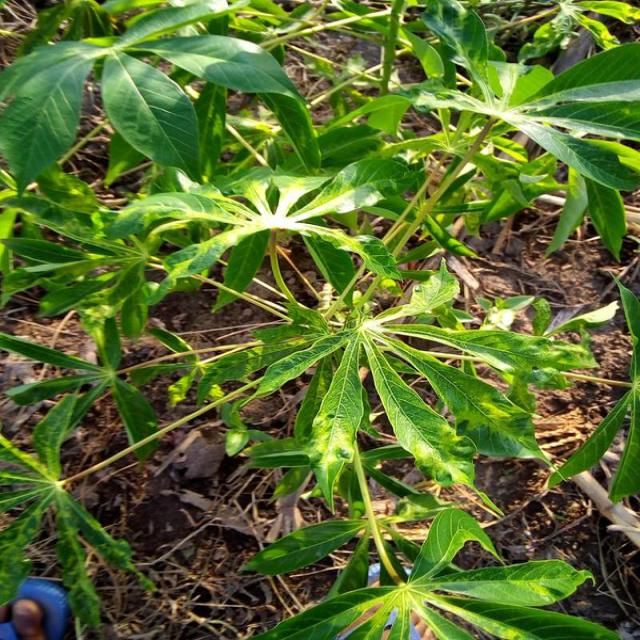cassava leaf: (1, 1, 637, 636), (99, 49, 202, 184)
